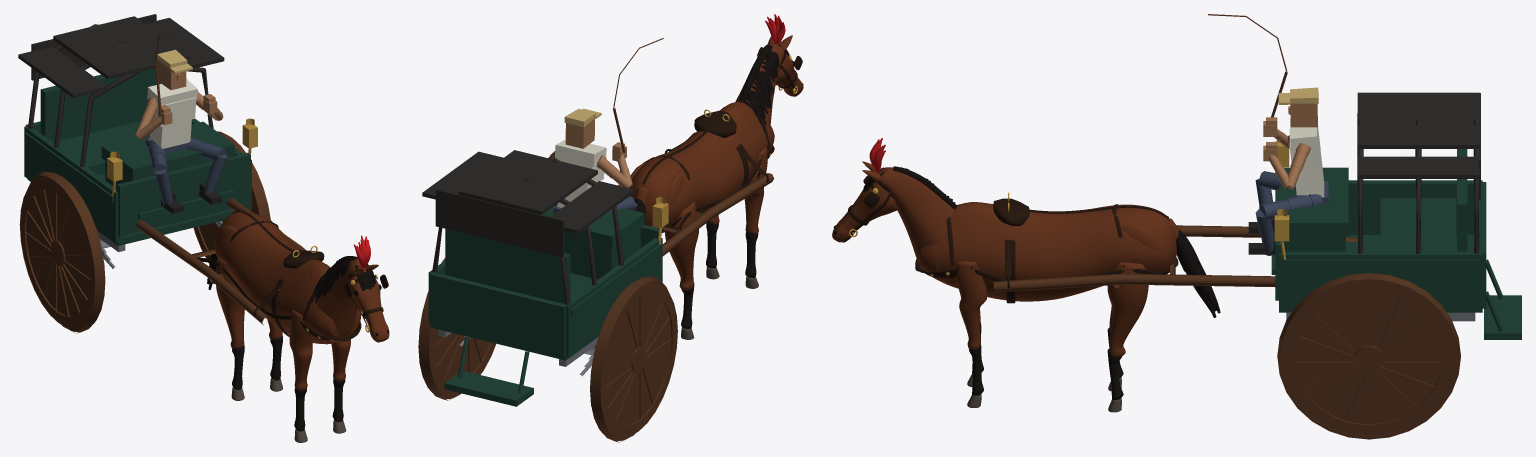
Rendered from kalesa.glb.
The picture shows the model from 3 angles, left to right: view 1: azimuth 30°, elevation 25°; view 2: azimuth 150°, elevation 25°; view 3: azimuth 270°, elevation 25°; orthographic projection. The views are drawn at different scales.
Parts seen in each view (by area): view 1: Cab, Spin (×2), Hood, Barrel, Upper (×3), Torso, Harness, Shafts, LowerMesh (×4), NeckMesh, HeadMesh, Style_Mane_Flowing (+11 smaller); view 2: Cab, Hood, Spin (×2), Barrel, Upper (×2), Harness, Style_Mane_Flowing, Shafts, LowerMesh (×3), Torso, Head, HeadMesh (+6 smaller); view 3: Spin, Cab, Barrel, Hood, Shafts, Upper (×2), NeckMesh, Harness, Torso, HeadMesh, Leg_L, Head.
Boxes of the visible parts, <box> form: Cab: <box>24,68,251,245</box>; Spin (×2): <box>19,131,270,333</box>; Hood: <box>18,14,224,166</box>; Barrel: <box>214,211,361,344</box>; Upper (×3): <box>216,257,350,391</box>; Torso: <box>147,78,197,148</box>; Harness: <box>196,210,361,341</box>; Shafts: <box>136,198,306,325</box>; LowerMesh (×4): <box>232,336,345,431</box>; NeckMesh: <box>317,259,366,341</box>; HeadMesh: <box>349,275,389,342</box>; Style_Mane_Flowing: <box>311,256,357,303</box>; Cab: <box>428,205,662,406</box>; Hood: <box>422,150,633,304</box>; Spin (×2): <box>418,258,677,442</box>; Barrel: <box>629,101,774,232</box>; Upper (×2): <box>664,147,767,290</box>; Harness: <box>642,110,774,234</box>; Style_Mane_Flowing: <box>738,44,779,131</box>; Shafts: <box>618,173,774,256</box>; LowerMesh (×3): <box>681,221,758,328</box>; Torso: <box>555,139,606,207</box>; Head: <box>565,118,594,148</box>; HeadMesh: <box>775,53,803,96</box>; Spin: <box>1277,273,1460,439</box>; Cab: <box>1271,149,1521,339</box>; Barrel: <box>919,202,1176,301</box>; Hood: <box>1357,92,1480,253</box>; Shafts: <box>993,225,1357,292</box>; Upper (×2): <box>955,261,1148,356</box>; NeckMesh: <box>874,167,954,263</box>; Harness: <box>915,198,1178,303</box>; Torso: <box>1289,118,1324,197</box>; HeadMesh: <box>832,183,897,242</box>; Leg_L: <box>1259,194,1322,219</box>; Head: <box>1288,103,1317,127</box>.
Bounding box in the file's own units: 1.57 × 2.78 × 4.74.
